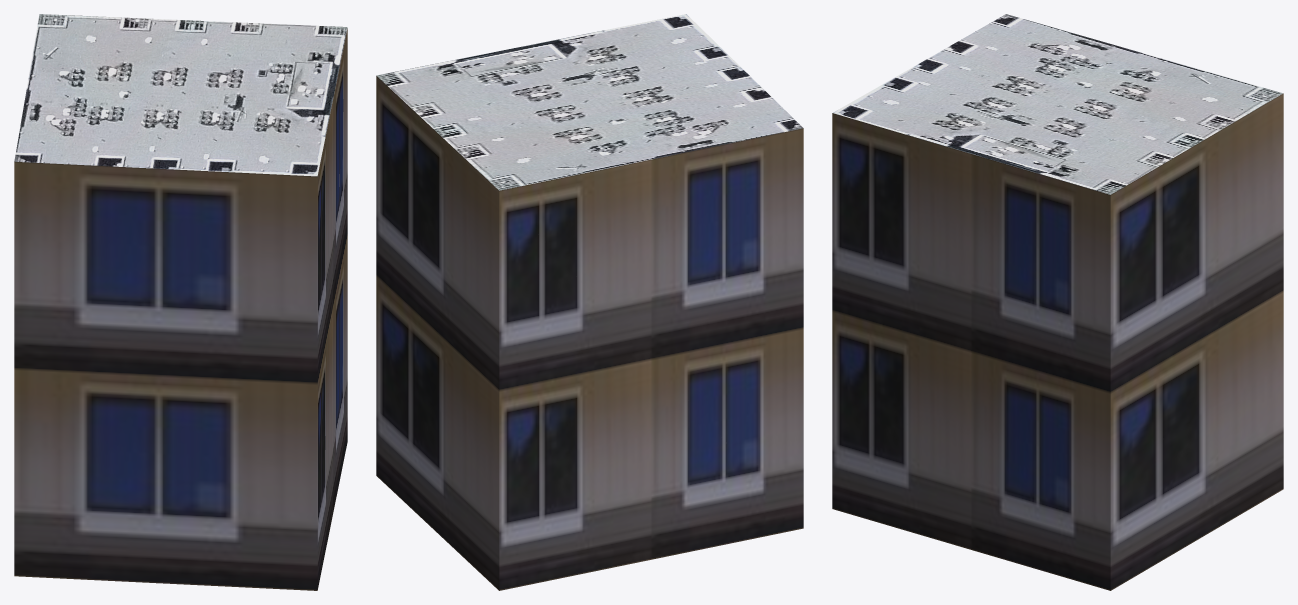
The model's file is ResTex__4205.fbx.
3 renders of one model, left to right at view 1: azimuth 30°, elevation 25°; view 2: azimuth 150°, elevation 25°; view 3: azimuth 270°, elevation 25°, orthographic. The views are drawn at different scales.
Parts seen in each view (by area): view 1: CityEngineMaterial_5_m, CityEngineMaterial_2_m; view 2: CityEngineMaterial_5_m, CityEngineMaterial_2_m; view 3: CityEngineMaterial_5_m, CityEngineMaterial_2_m.
Boxes of the visible parts, <box> form: CityEngineMaterial_5_m: <box>14,28,347,590</box>; CityEngineMaterial_2_m: <box>14,14,347,176</box>; CityEngineMaterial_5_m: <box>376,76,803,590</box>; CityEngineMaterial_2_m: <box>376,14,803,190</box>; CityEngineMaterial_5_m: <box>832,93,1283,590</box>; CityEngineMaterial_2_m: <box>833,14,1282,194</box>.
Bounding box in the file's own units: 5.88 × 6 × 6.19.
2 materials, 2 textured.
